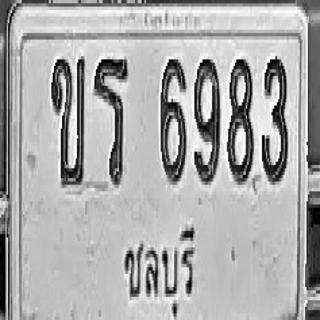A02: (50, 55, 85, 186)
A35: (93, 56, 128, 185)
N03: (261, 54, 288, 183)
N06: (160, 58, 186, 183)
N08: (227, 54, 254, 183)
N09: (193, 56, 220, 185)
P13: (120, 218, 196, 320)
